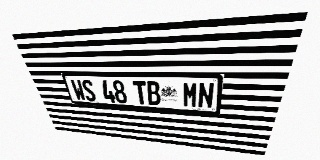4: (100, 80, 116, 103)
8: (111, 80, 128, 103)
B: (146, 81, 161, 105)
M: (183, 82, 198, 108)
N: (198, 82, 215, 109)
S: (80, 80, 97, 101)
T: (132, 81, 148, 105)
W: (70, 79, 87, 101)
